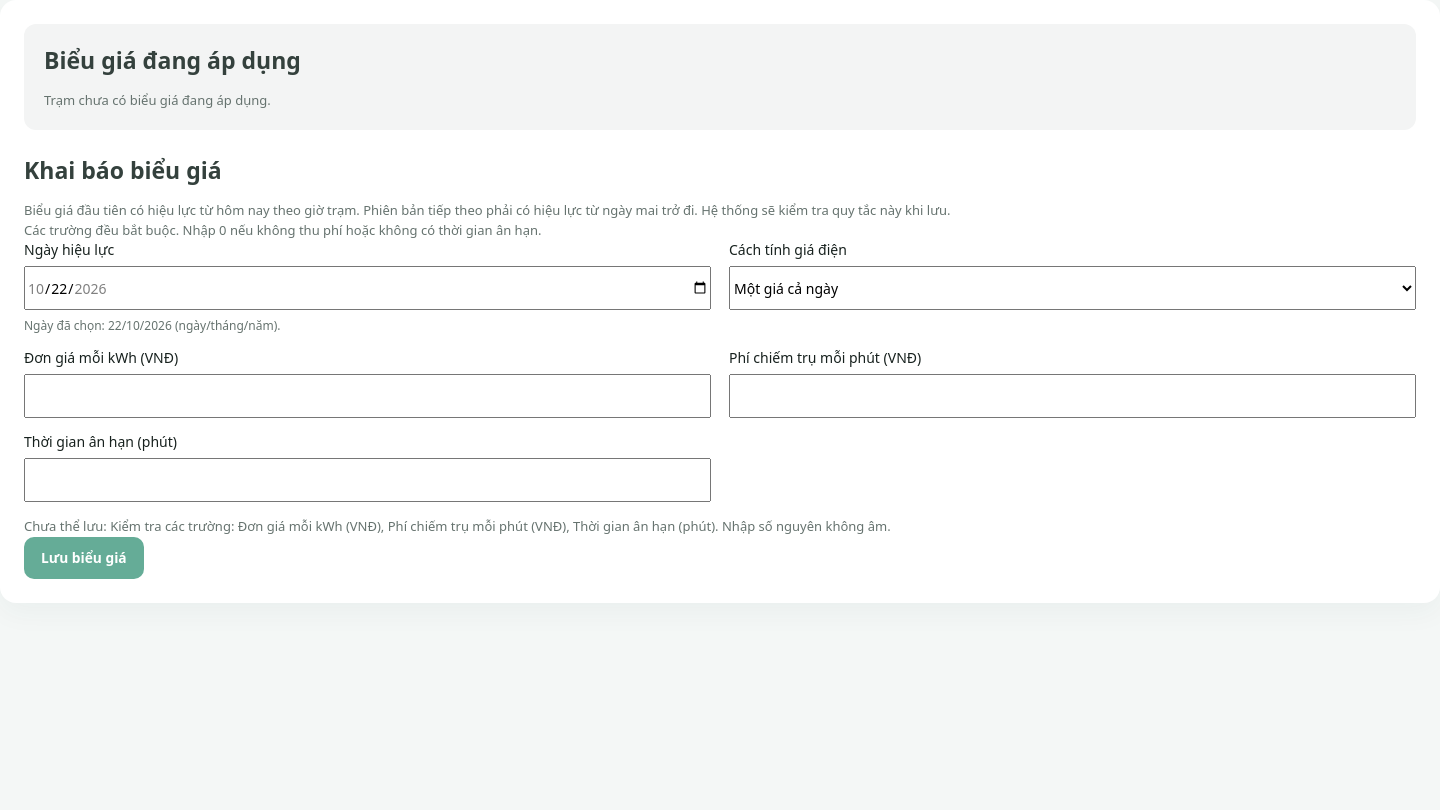
Test case: T-62 - Luồng lưu biểu giá › API lỗi 422: giữ dữ liệu, hiện lỗi đúng ô và cho thử lại
Type "3500" into the field labelled "Đơn giá mỗi kWh (VNĐ)". click: (368, 396)
box: [24, 374, 711, 418]
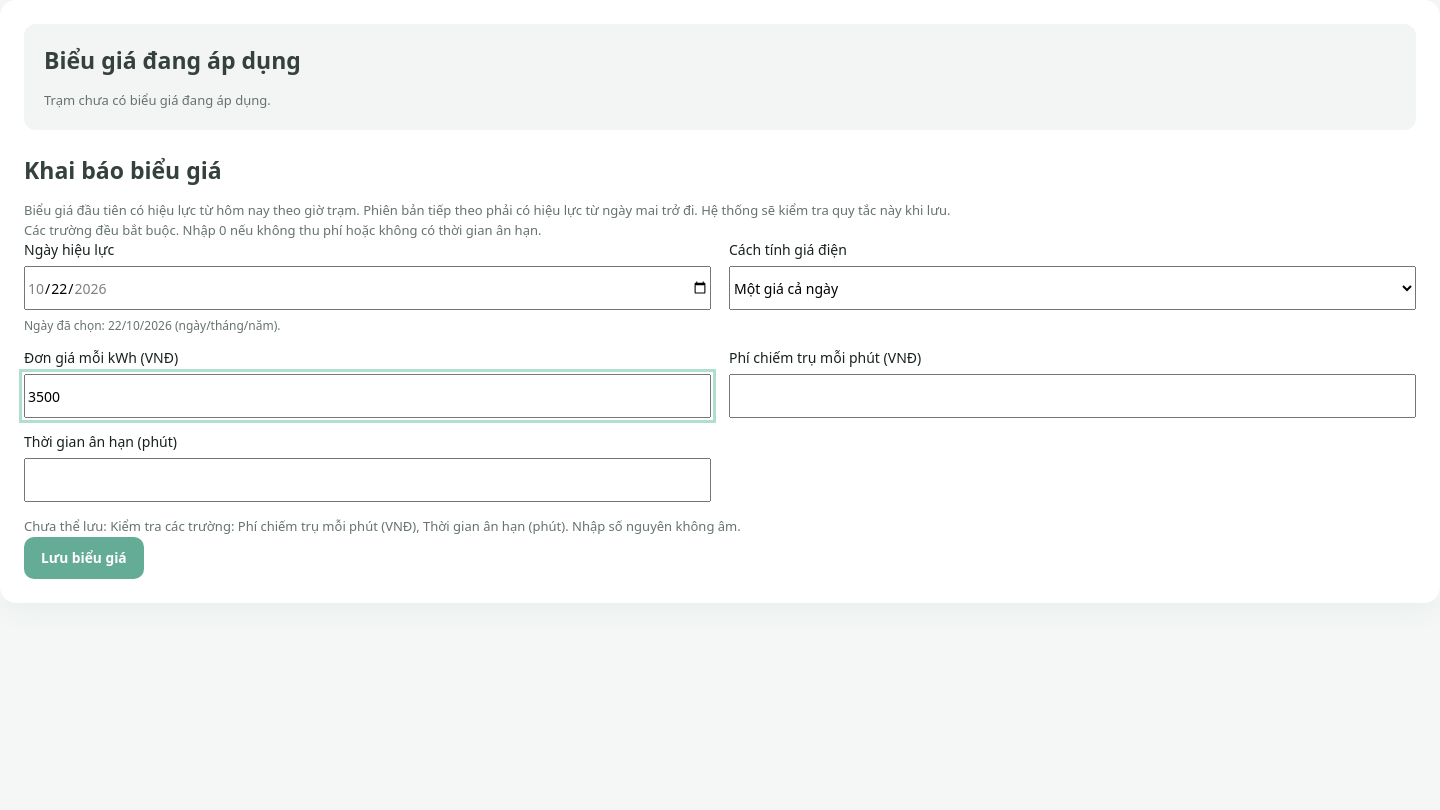
Type "500" into the field labelled "Phí chiếm trụ mỗi phút (VNĐ)". click: (1072, 396)
box: [729, 374, 1416, 418]
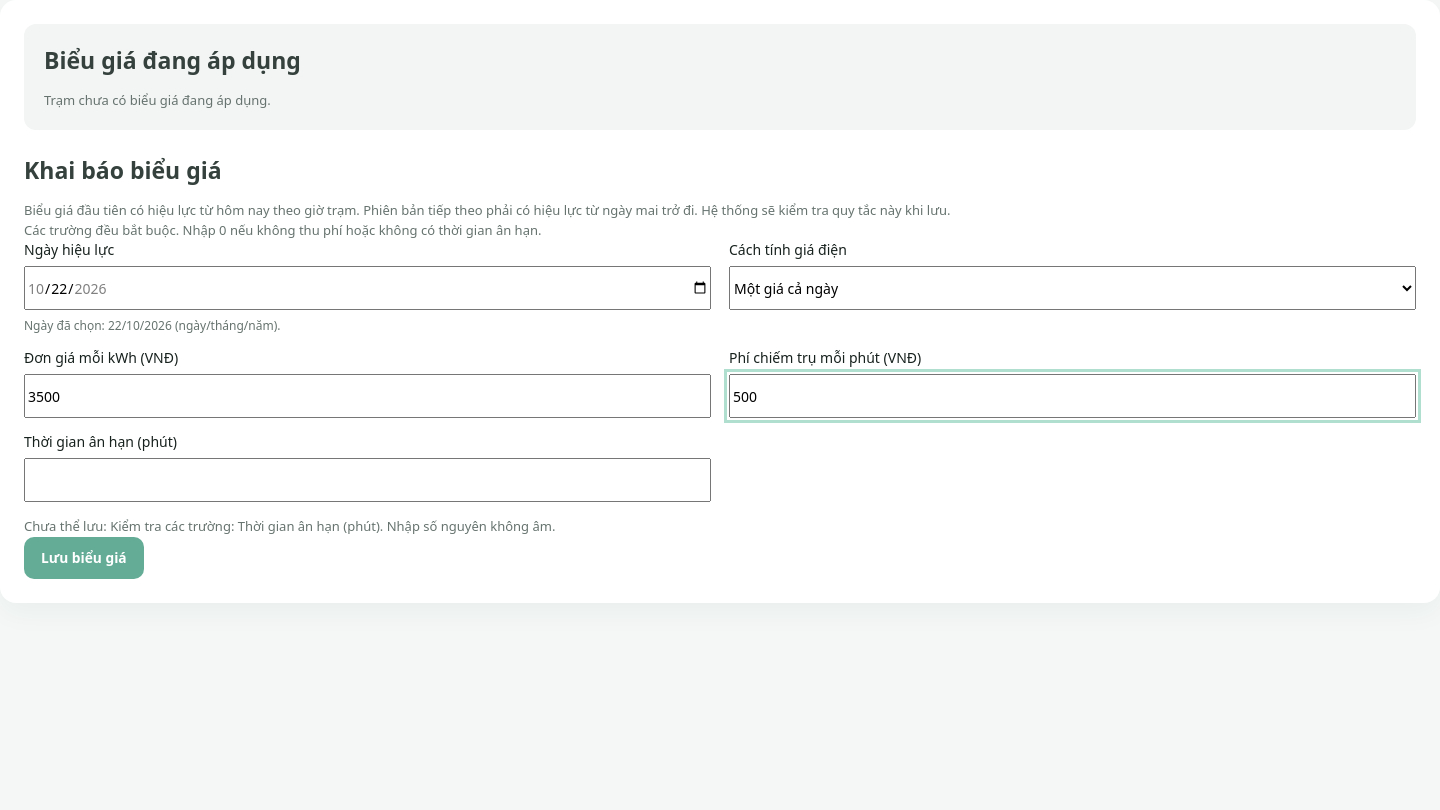
Type "5" into the field labelled "Thời gian ân hạn (phút)". click: (368, 480)
box: [24, 458, 711, 502]
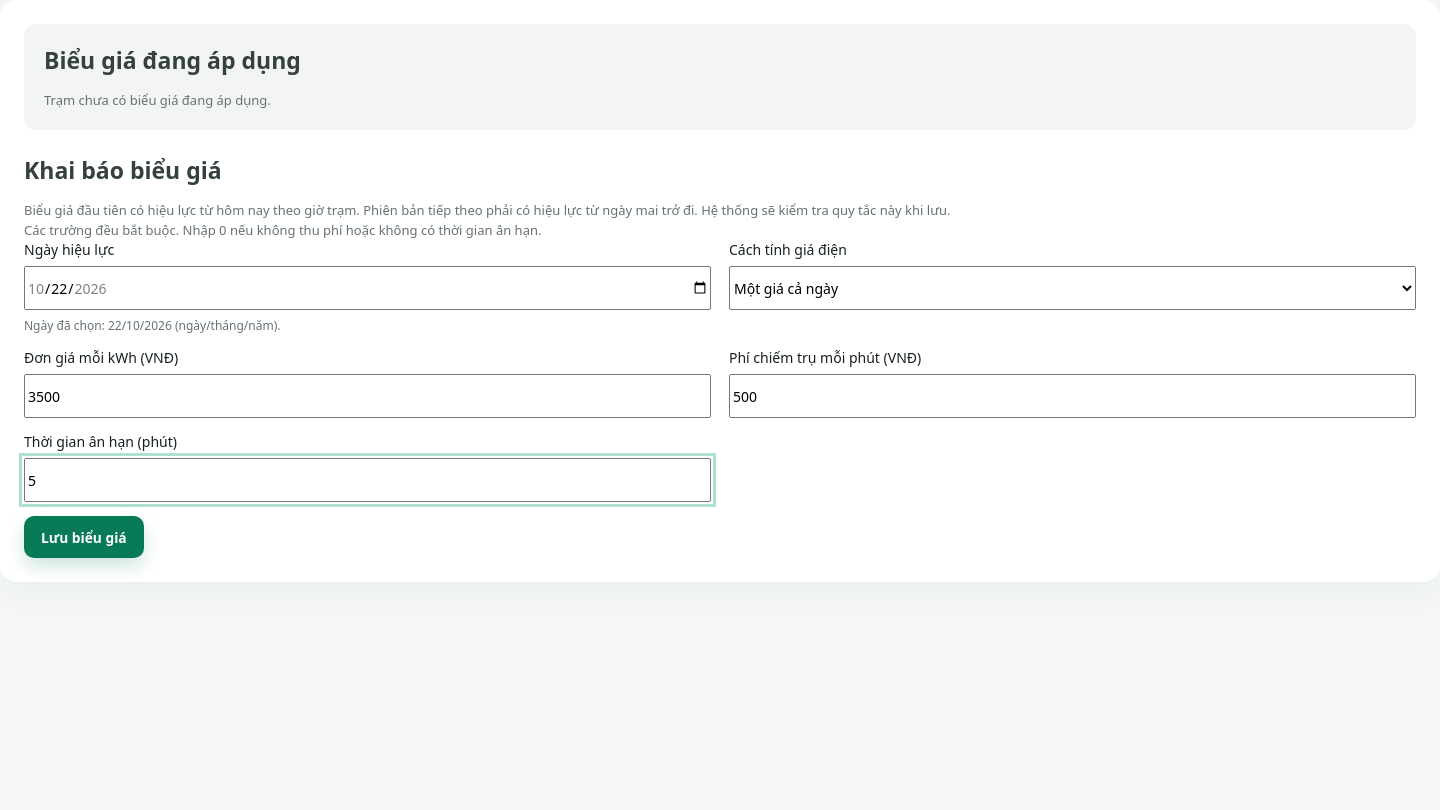
Click the button "Lưu biểu giá". click: (84, 537)
box: [24, 516, 144, 558]
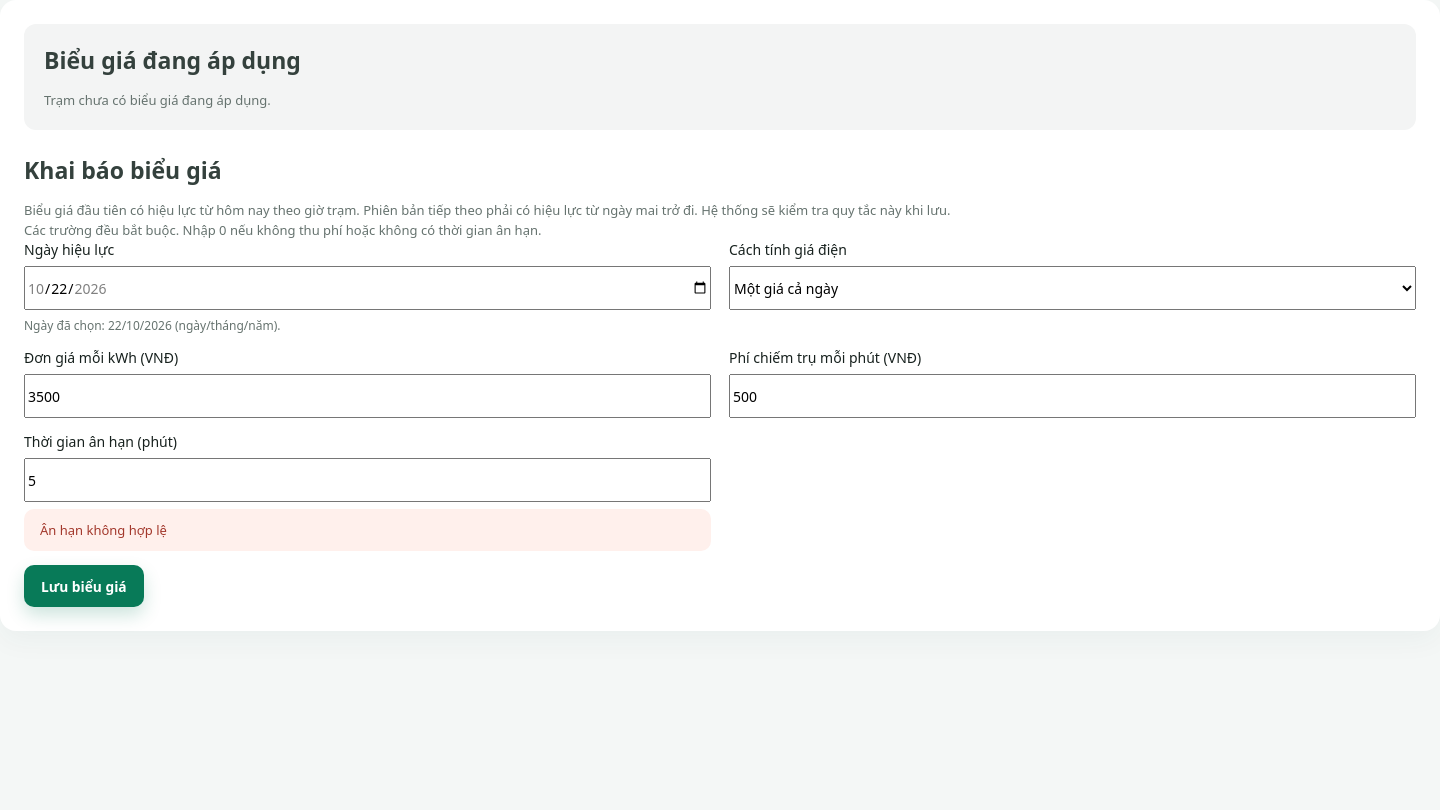
expect the text "Đã lưu biểu giá vào hệ thống" is not shown: met
expect the text "Ân hạn không hợp lệ" is shown: met, box [24, 509, 711, 551]
Replace the text in the field labelled "Thời gian ân hạn (phút)" with "6". click: (368, 480)
box: [24, 458, 711, 502]
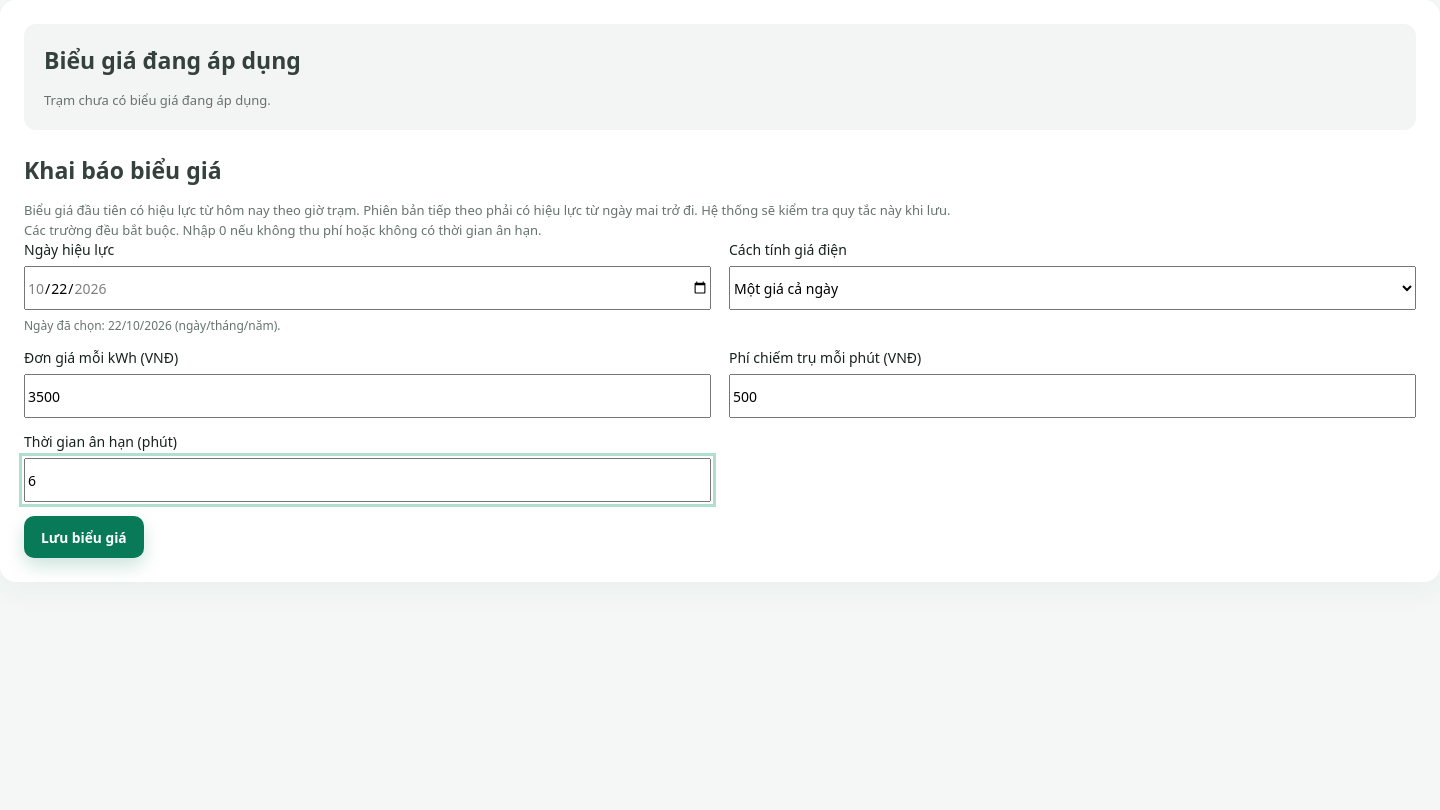
Click the button "Lưu biểu giá". click: (84, 537)
box: [24, 516, 144, 558]
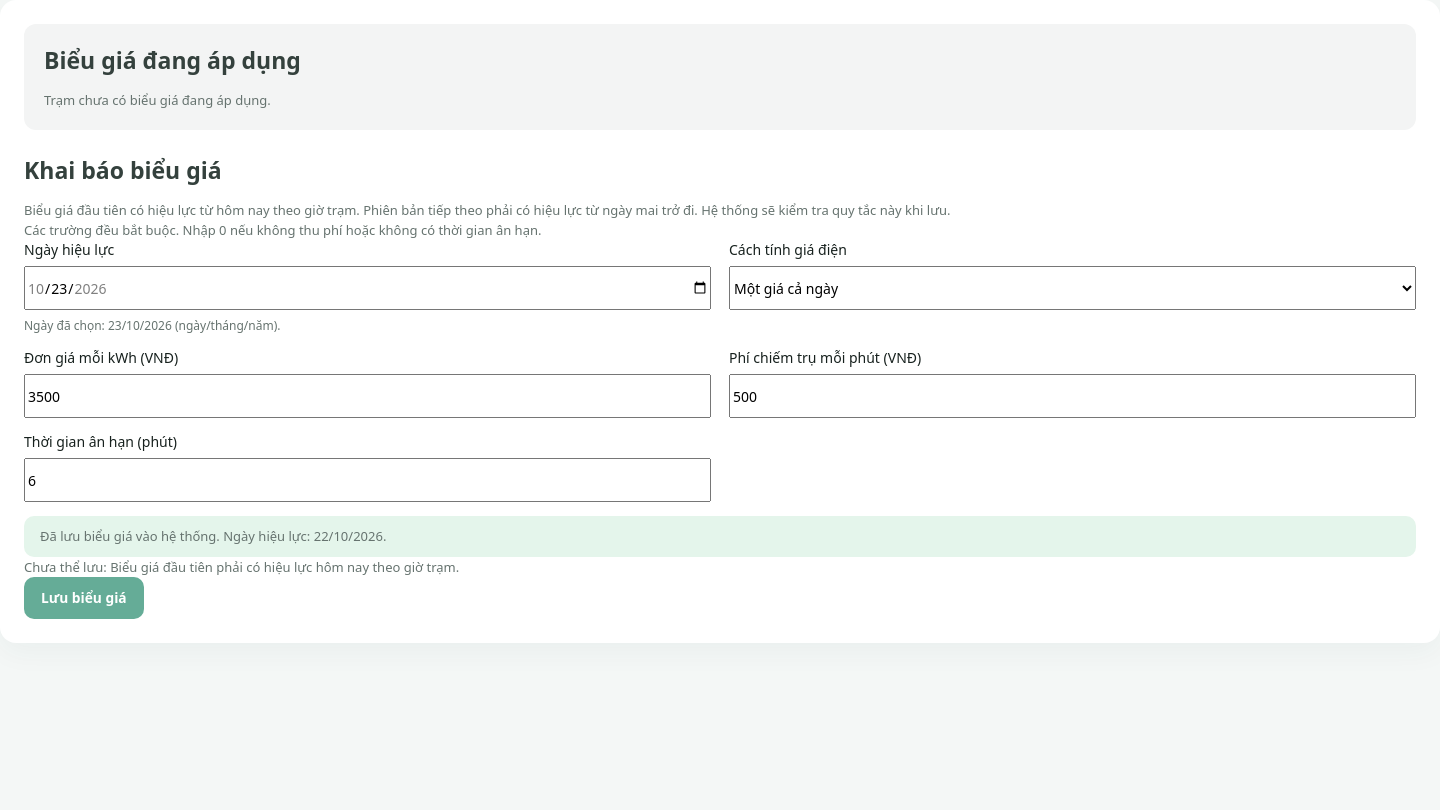
expect the text "Đã lưu biểu giá vào hệ thống. Ngày hiệu lực: 22/10/2026." is shown: met, box [24, 516, 1416, 556]
